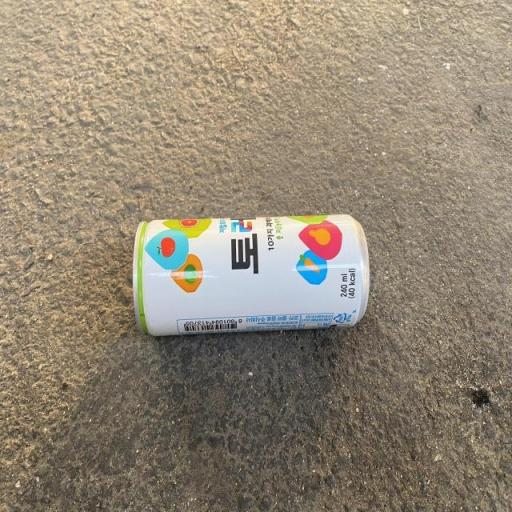metal: (80, 168, 404, 399)
